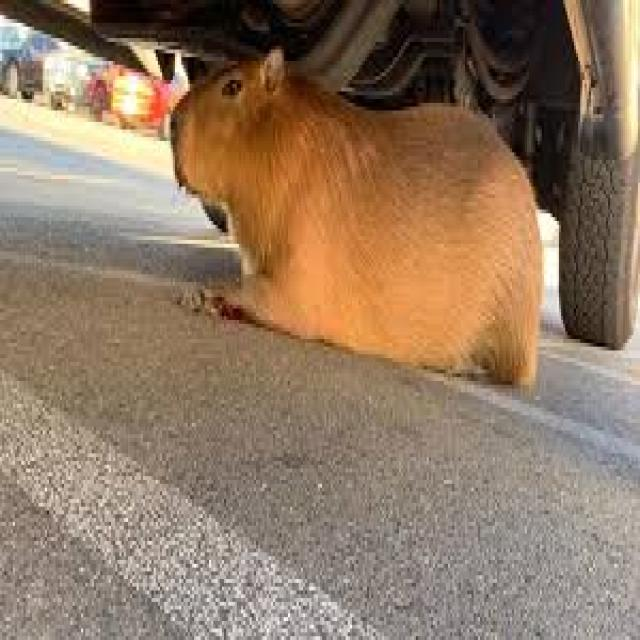capy: (169, 48, 542, 388)
